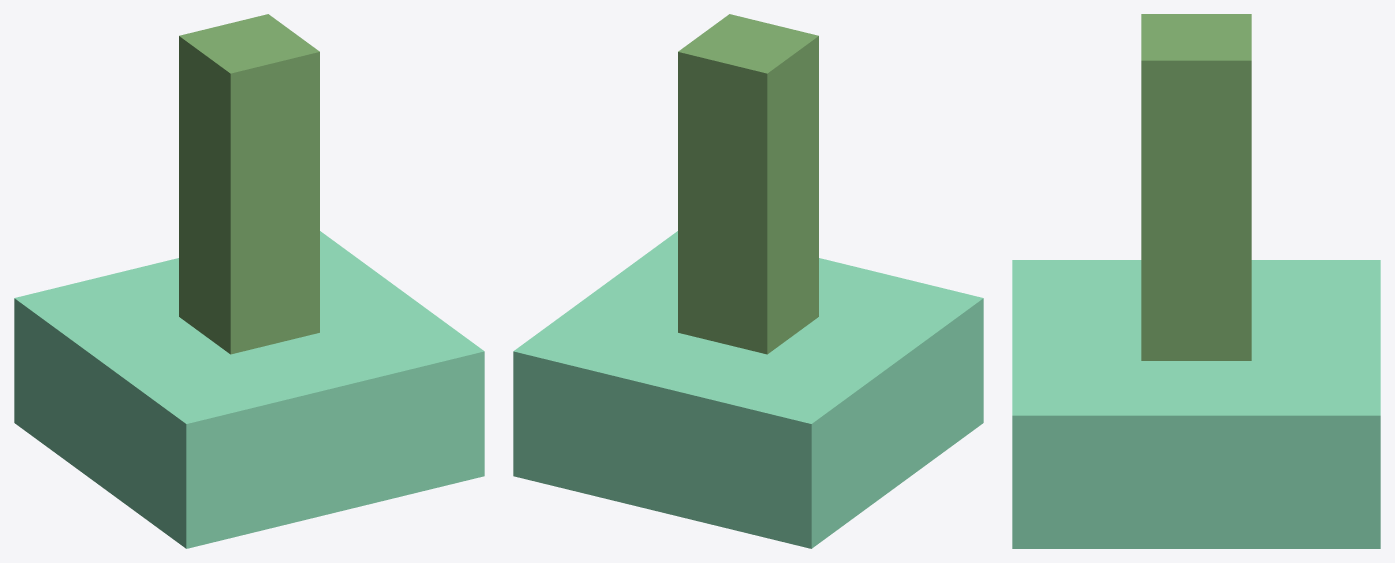
File: Item_DS_Herb_CacheLeaf.glb
The picture shows the model from 3 angles, left to right: view 1: azimuth 30°, elevation 25°; view 2: azimuth 150°, elevation 25°; view 3: azimuth 270°, elevation 25°; orthographic projection. The views are drawn at different scales.
Parts seen in each view (by area): view 1: Cube, Cube.001; view 2: Cube, Cube.001; view 3: Cube, Cube.001.
Boxes of the visible parts, box(x1,y1,x2,y2) form: Cube: box(14, 231, 484, 548); Cube.001: box(179, 14, 319, 354); Cube: box(513, 231, 983, 548); Cube.001: box(678, 14, 818, 354); Cube: box(1012, 260, 1380, 548); Cube.001: box(1141, 14, 1251, 360).
Size of the model in its own units: 0.2 by 0.26 by 0.2.
